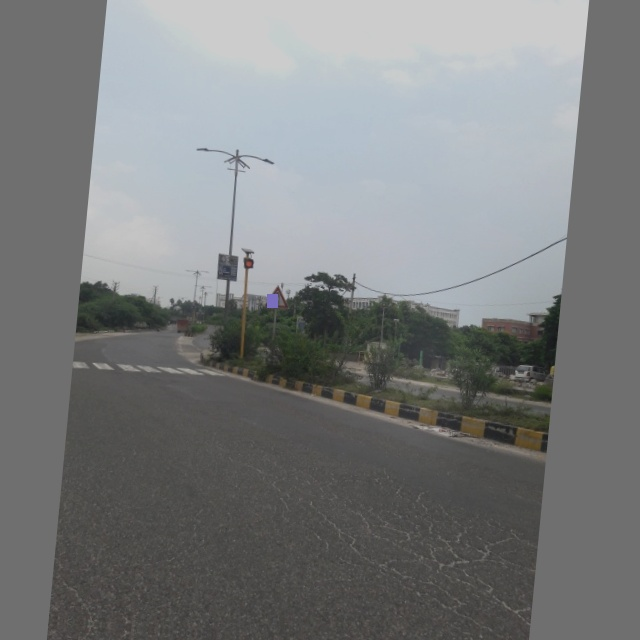Gap_in_Median: (261, 278, 294, 315)
